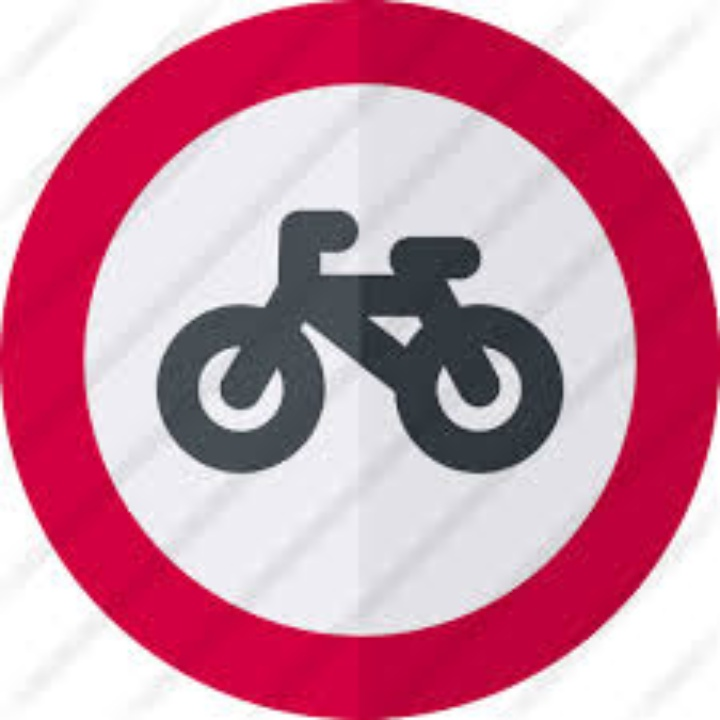bicycle: (153, 159, 569, 575)
